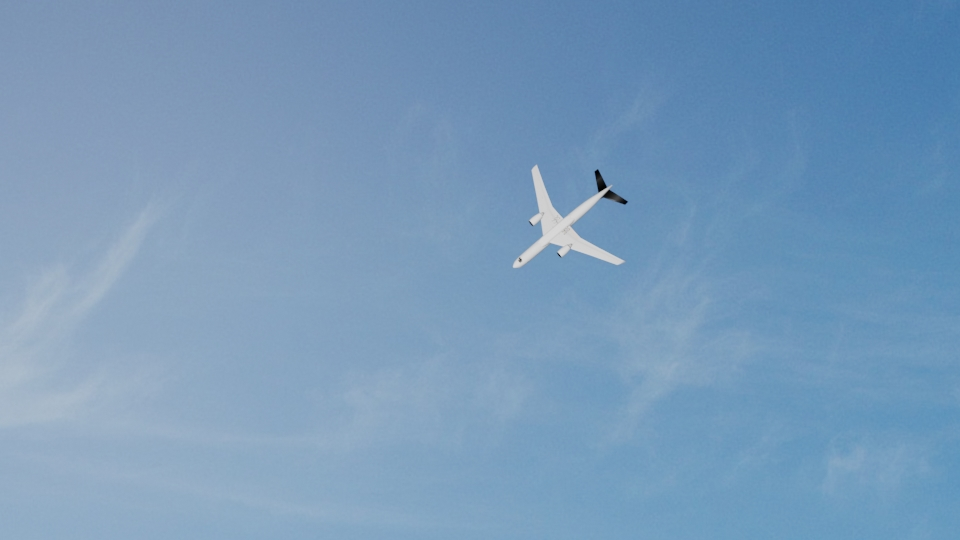plane: (510, 162, 631, 271)
